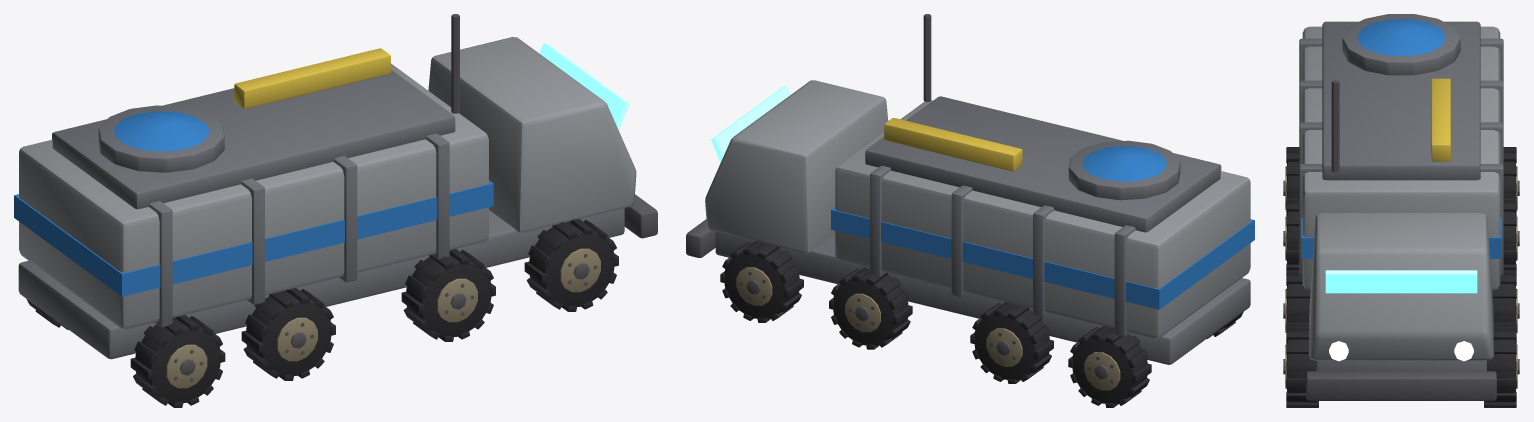
File: mcv.glb
3 views of the same model, side by side, from view 1: azimuth 30°, elevation 25°; view 2: azimuth 150°, elevation 25°; view 3: azimuth 270°, elevation 25° (orthographic). The views are drawn at different scales.
Visible parts, largest first — view 1: hull, wheel_R1, wheel_R3, wheel_R4, wheel_R2; view 2: hull, wheel_L1, wheel_L3, wheel_L2, wheel_L4; view 3: hull, wheel_L1, wheel_R1, wheel_L2, wheel_R2, wheel_L3, wheel_R3, wheel_L4, wheel_R4.
Boxes of the visible parts, x1,y1,x2,y2 form: hull: (14,14,657,359); wheel_R1: (524,219,618,311); wheel_R3: (241,288,335,380); wheel_R4: (130,315,225,407); wheel_R2: (401,249,495,341); hull: (686,14,1254,364); wheel_L1: (720,241,803,322); wheel_L3: (970,302,1053,383); wheel_L2: (829,267,912,349); wheel_L4: (1068,326,1151,407); hull: (1299,14,1503,400); wheel_L1: (1484,325,1519,407); wheel_R1: (1283,325,1318,407); wheel_L2: (1492,269,1519,344); wheel_R2: (1283,269,1310,344); wheel_L3: (1503,197,1519,269); wheel_R3: (1283,197,1299,269); wheel_L4: (1503,147,1519,216); wheel_R4: (1283,147,1299,216).
Size of the model in its own units: 8.85 by 4.66 by 3.59.
